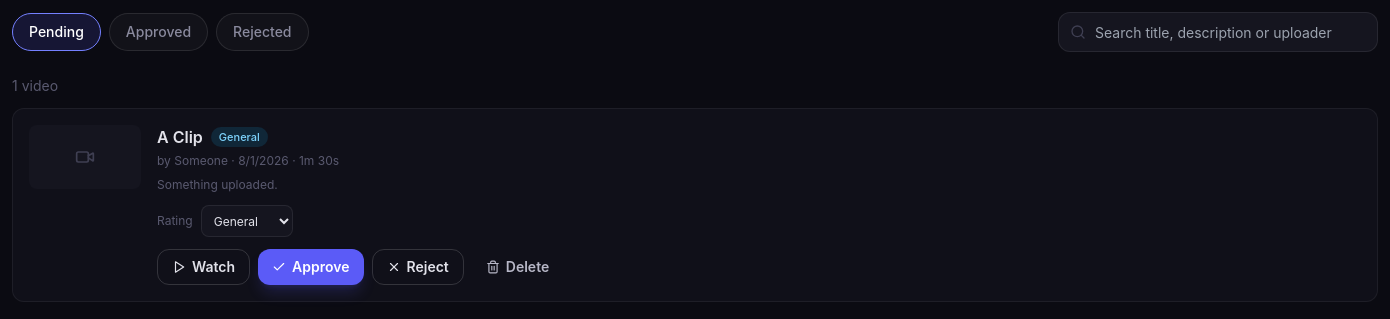
Test case: ModerationPanel › search › says nothing matched rather than showing an empty queue
The width and height of the screenshot is (1390, 319).
Expected: the heading "A Clip" is shown, [157, 125, 203, 149]
Type "zzz" into the search field named "search the moderation queue" at point(1218, 32), box [1058, 12, 1378, 52]
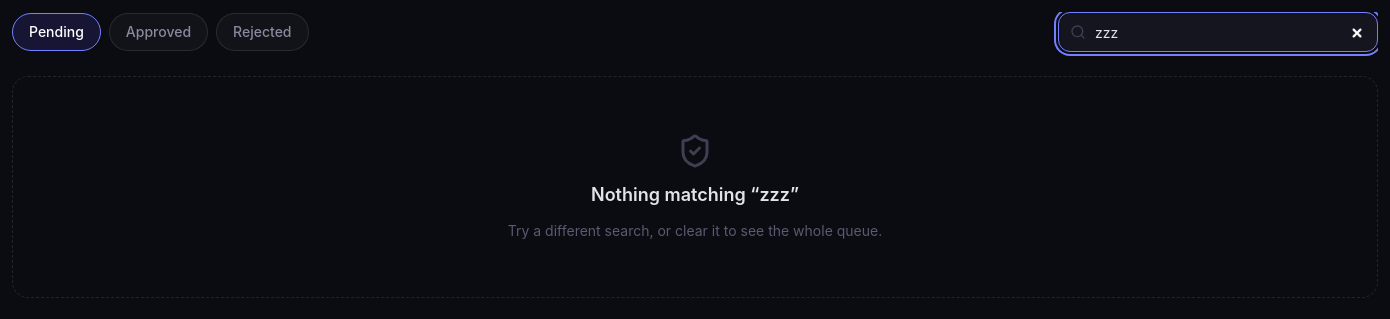
Expected: the heading "Nothing matching “zzz”" is shown, [591, 181, 799, 209]
